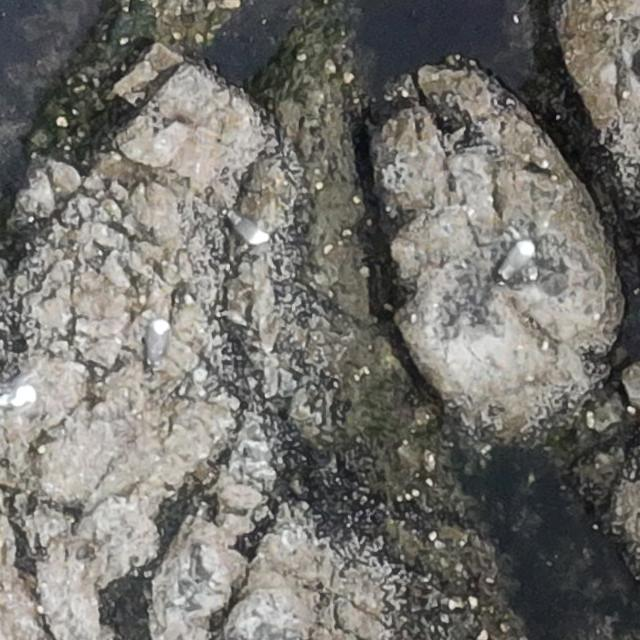umineko: (504, 240, 532, 273), (232, 218, 267, 244), (3, 385, 36, 410), (152, 324, 169, 359)
